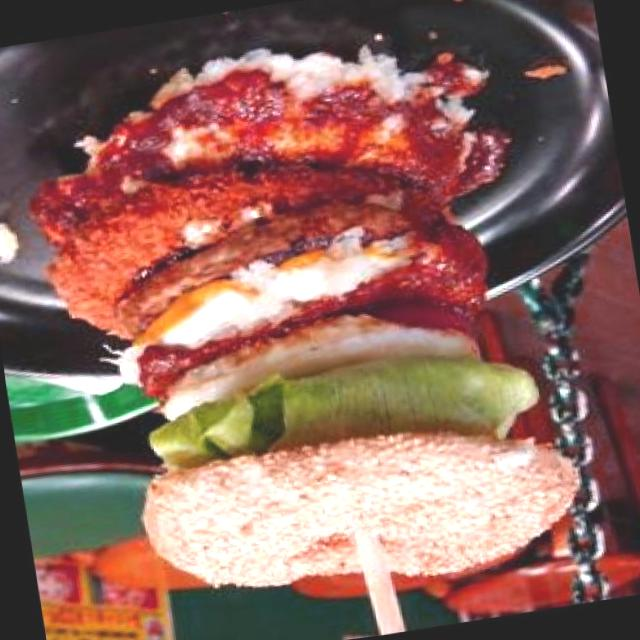Hamburger: (12, 16, 583, 625)
